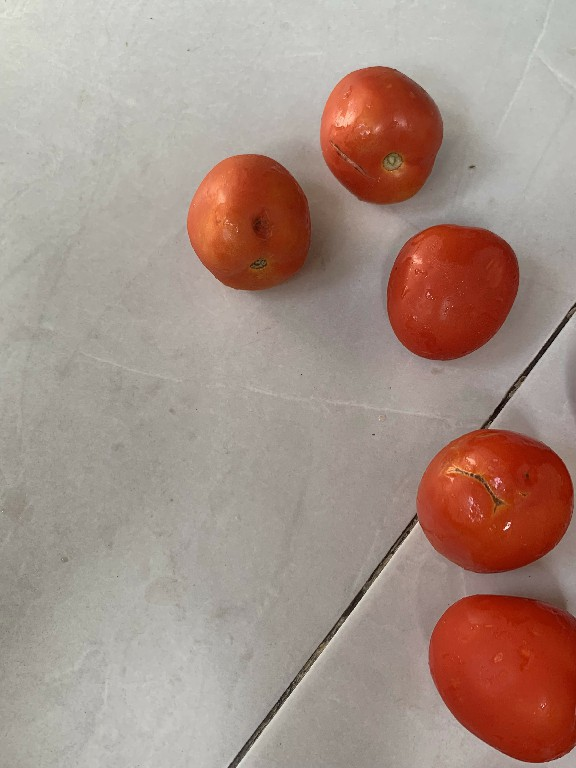NG: (410, 421, 576, 575), (171, 140, 321, 295), (319, 56, 459, 208)
OK: (423, 585, 575, 764), (375, 216, 530, 366)
